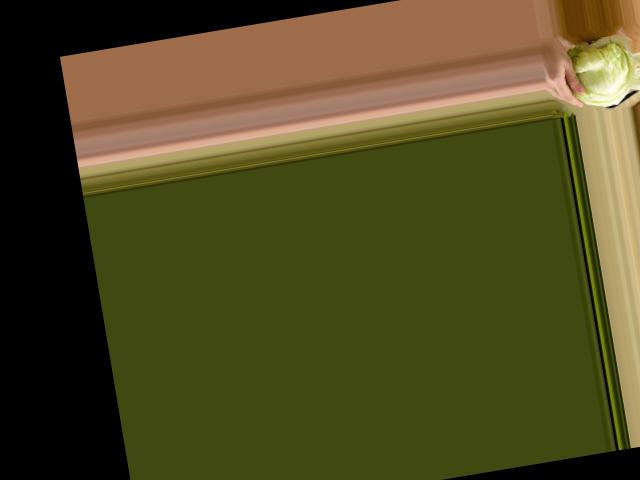lettuce: (558, 25, 640, 115)
